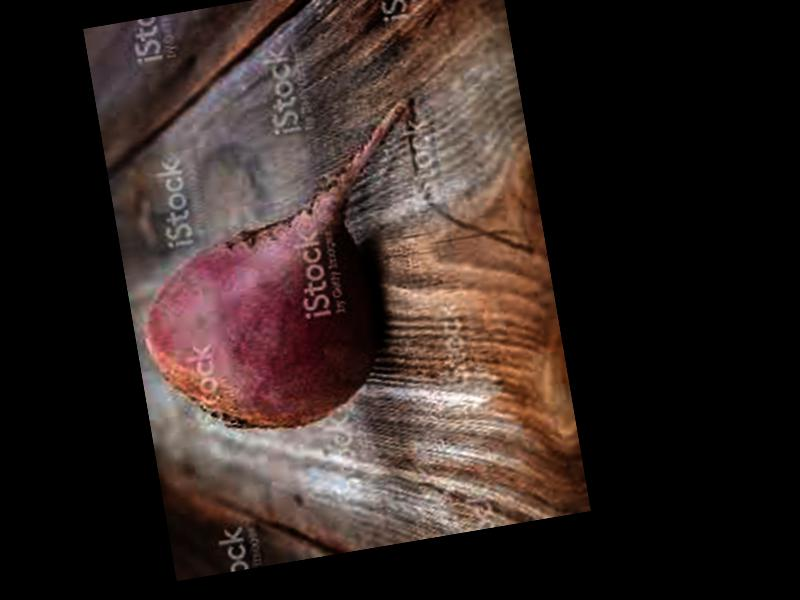Beet: (112, 95, 460, 448)
